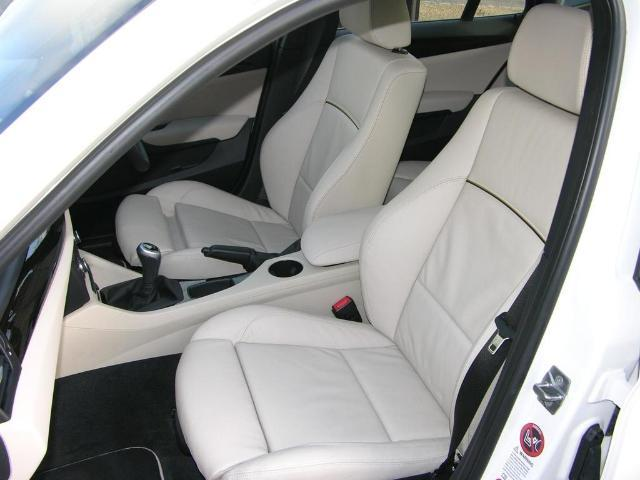Seatbelt: (435, 272, 535, 476)
